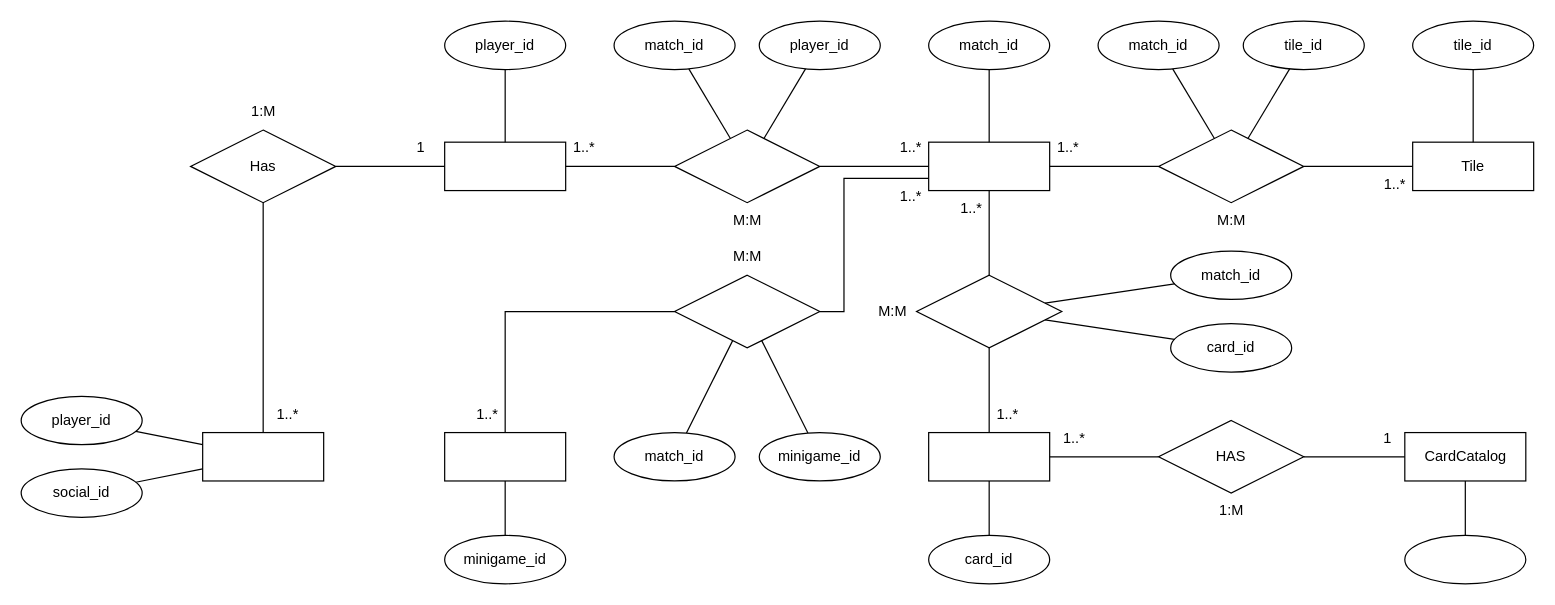
Some shapes in this 1555 by 605 pixel diagram are drawn without their labels. The box of each missing label's shape, as (x1, y1, x2, y2) in pixels:
Card: (927, 431, 1050, 481)
card_name: (1404, 534, 1526, 584)
mach_tiles: (1157, 129, 1304, 203)
Match: (927, 141, 1050, 191)
match_cards: (915, 274, 1062, 348)
match_minigames: (673, 274, 820, 348)
match_players: (673, 129, 820, 203)
Minigame: (443, 431, 566, 481)
Player: (443, 141, 566, 191)
SocialNetwork: (201, 431, 324, 481)
